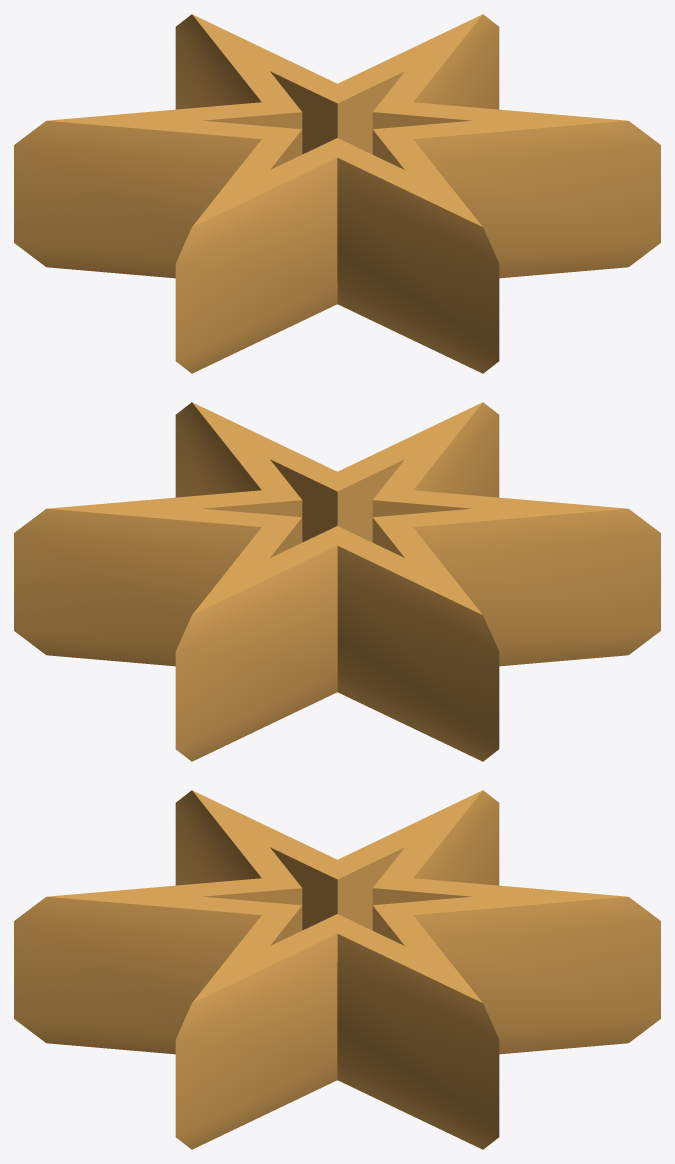
The model's file is Star_6P_04.fbx.
3 views of the same model, one above another, from view 1: azimuth 30°, elevation 25°; view 2: azimuth 150°, elevation 25°; view 3: azimuth 270°, elevation 25° (orthographic).
Parts seen in each view (by area): view 1: Star_6P_04; view 2: Star_6P_04; view 3: Star_6P_04.
Part boxes in pixels (x1=…): Star_6P_04: x1=14, y1=14, x2=660, y2=373; Star_6P_04: x1=14, y1=402, x2=660, y2=761; Star_6P_04: x1=14, y1=790, x2=660, y2=1149.
Bounding box in the file's own units: 346 × 100 × 400.
